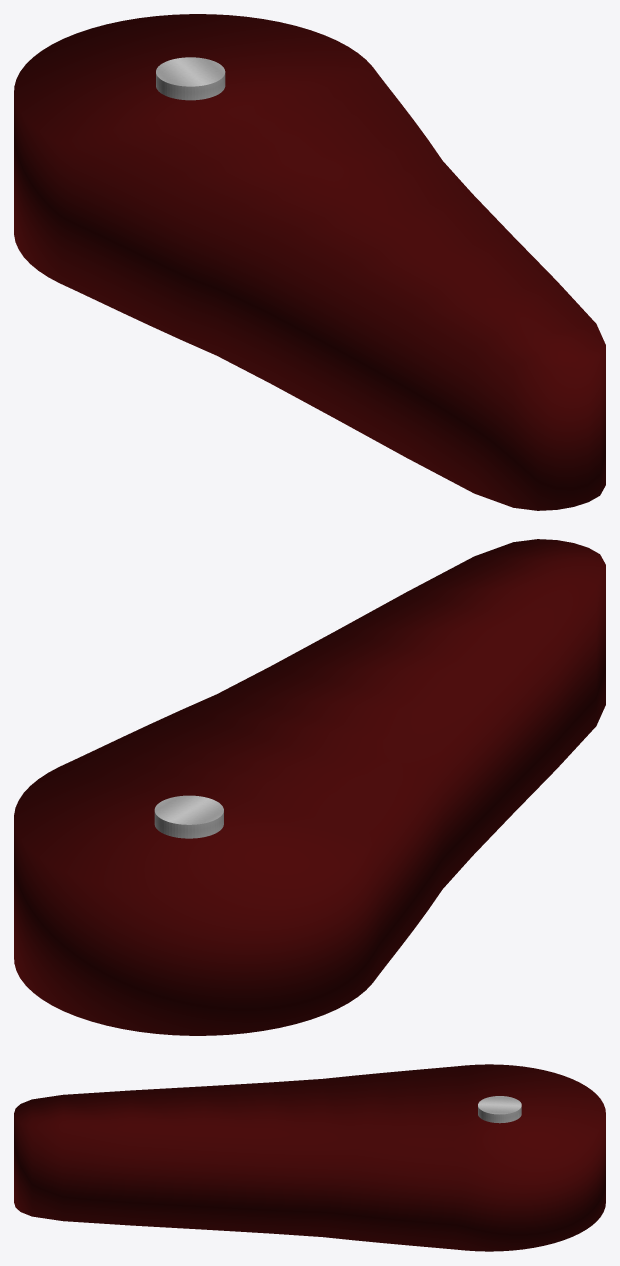
Rendered from flippers.obj.
3 views of the same model, one above another, from view 1: azimuth 30°, elevation 25°; view 2: azimuth 150°, elevation 25°; view 3: azimuth 270°, elevation 25° (orthographic). The views are drawn at different scales.
Visible parts, largest first — view 1: Cylinder, Cylinder.001; view 2: Cylinder, Cylinder.001; view 3: Cylinder, Cylinder.001.
Boxes of the visible parts, bbox=[...] form: Cylinder: bbox=[14, 14, 605, 510]; Cylinder.001: bbox=[156, 57, 225, 100]; Cylinder: bbox=[14, 539, 605, 1035]; Cylinder.001: bbox=[154, 795, 223, 838]; Cylinder: bbox=[14, 1064, 605, 1251]; Cylinder.001: bbox=[478, 1096, 521, 1123].
Bounding box in the file's own units: 2 × 0.9202 × 5.08.
